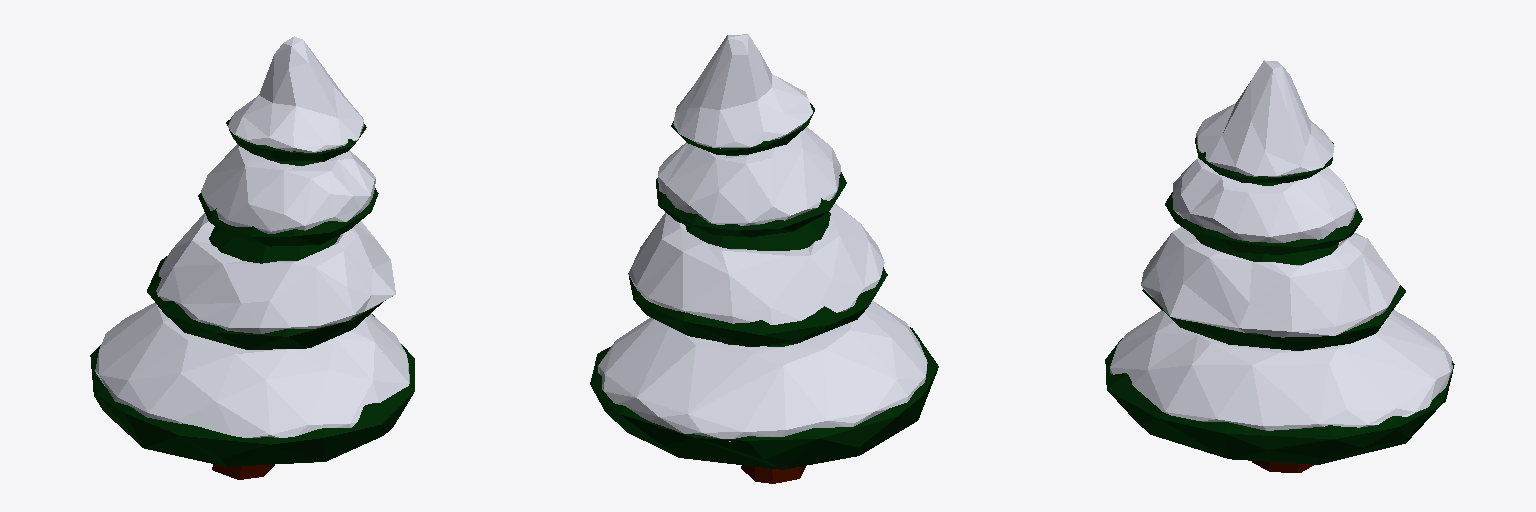
Rendered from tree.obj.
The picture shows the model from 3 angles: view 1: azimuth 30°, elevation 25°; view 2: azimuth 150°, elevation 25°; view 3: azimuth 270°, elevation 25°; orthographic projection.
Parts seen in each view (by area): view 1: pine.001_Cylinder.003; view 2: pine.001_Cylinder.003; view 3: pine.001_Cylinder.003.
Part boxes in pixels (left/top/right/bottom): pine.001_Cylinder.003: left=90, top=36, right=414, bottom=479; pine.001_Cylinder.003: left=590, top=34, right=938, bottom=483; pine.001_Cylinder.003: left=1105, top=60, right=1454, bottom=472.
Bounding box in the file's own units: 2.79 × 3.88 × 2.93.